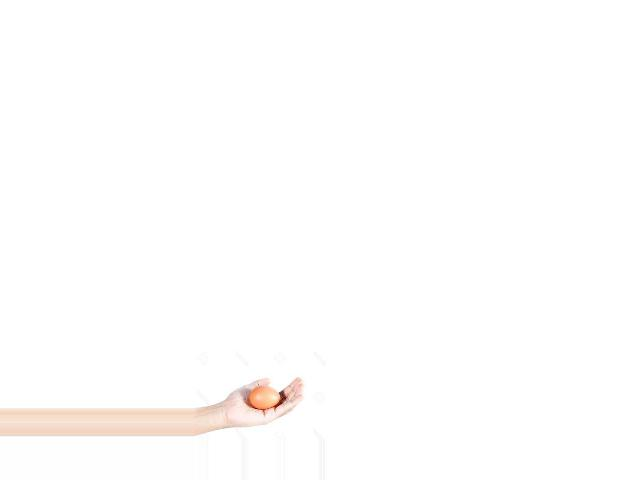egg: (249, 386, 279, 409)
